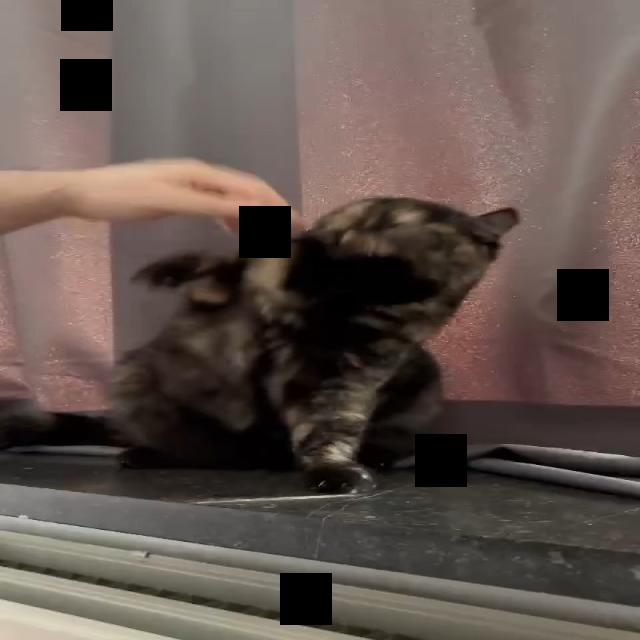authorized: (103, 195, 520, 494)
